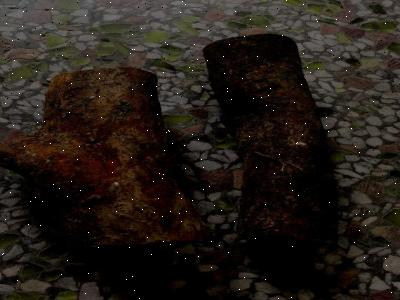Root: (0, 67, 208, 249), (204, 34, 336, 243)
